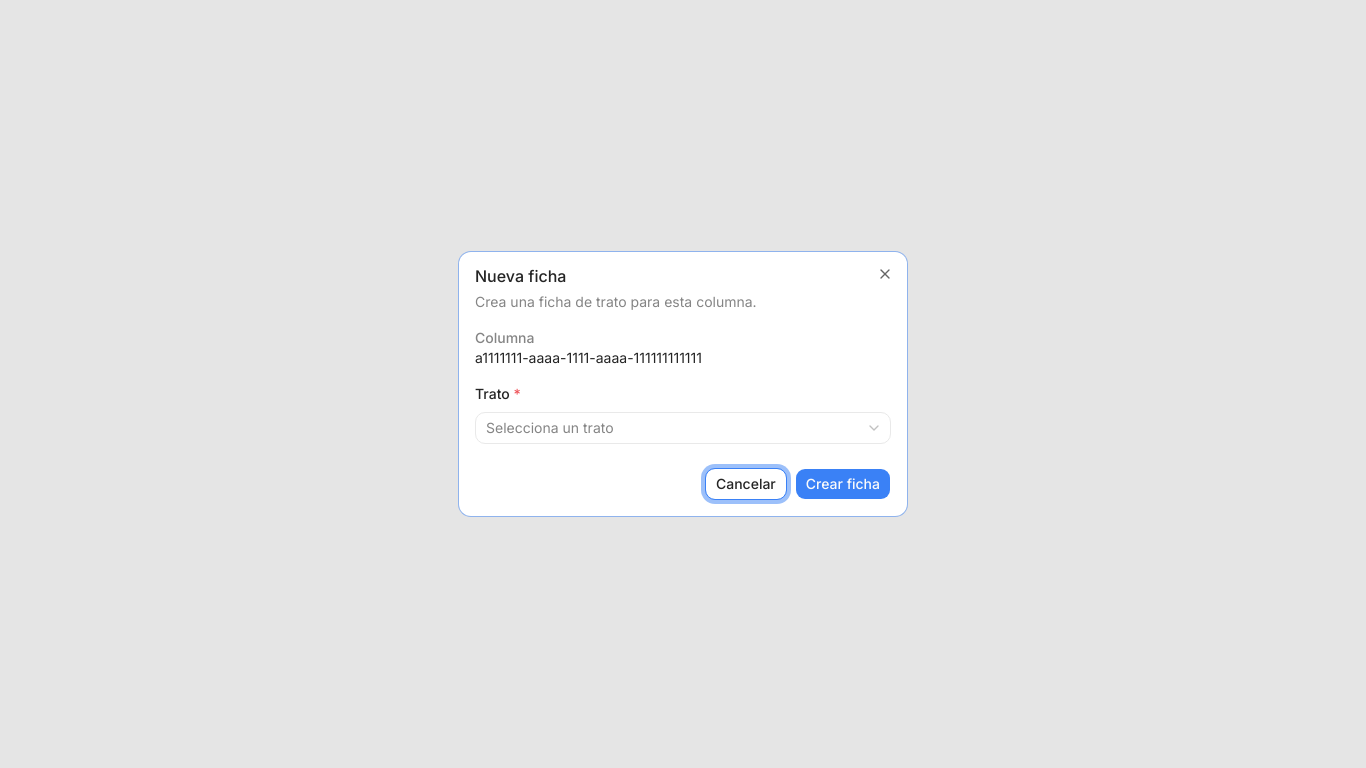
Test case: FichaCreateDialog — error 422 mantiene dialog abierto › (d) muestra serverError cuando back responde 422 con tratoId (remapeado a entidadId) y mantiene dialog abierto
Click the dropdown labelled "Selecciona un trato" at (550, 428), box [475,412,891,444]
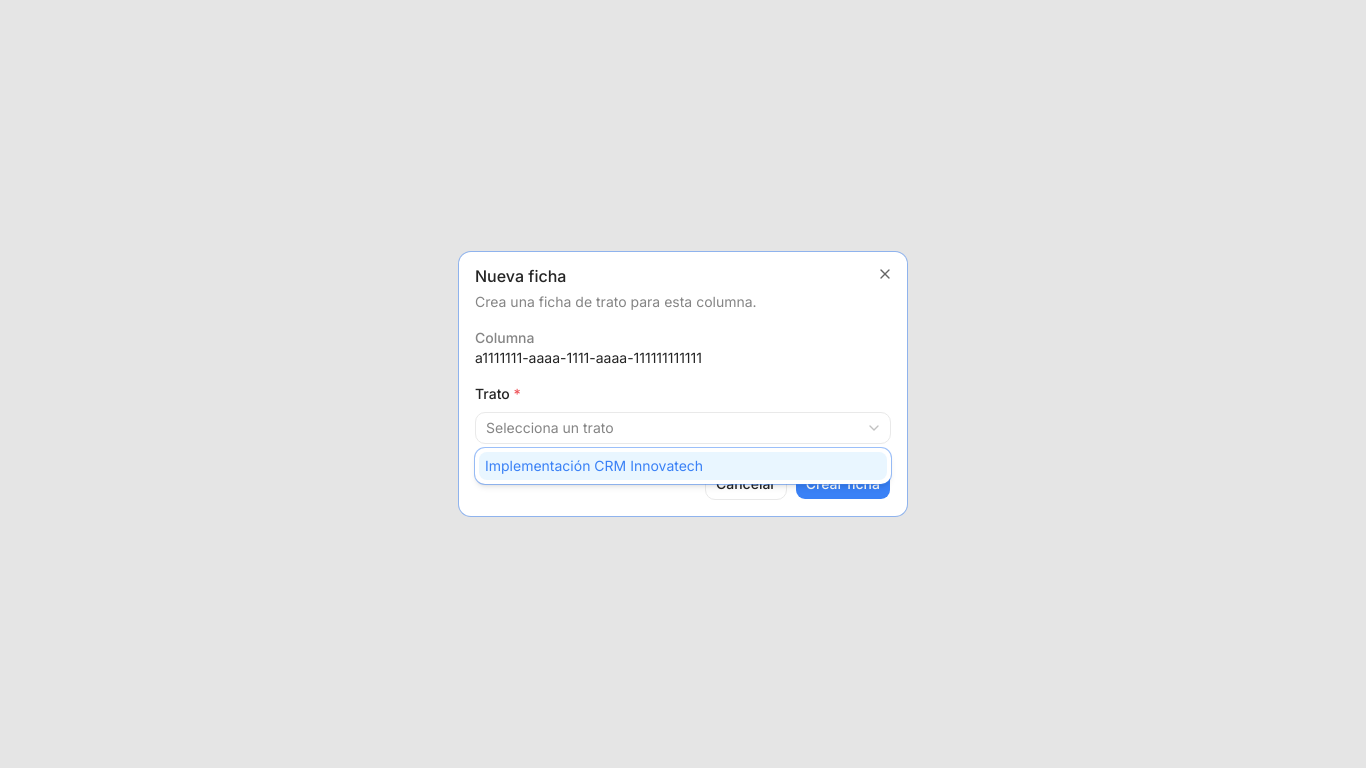
Click the option "Implementación CRM Innovatech" at (683, 466), box [479,452,887,480]
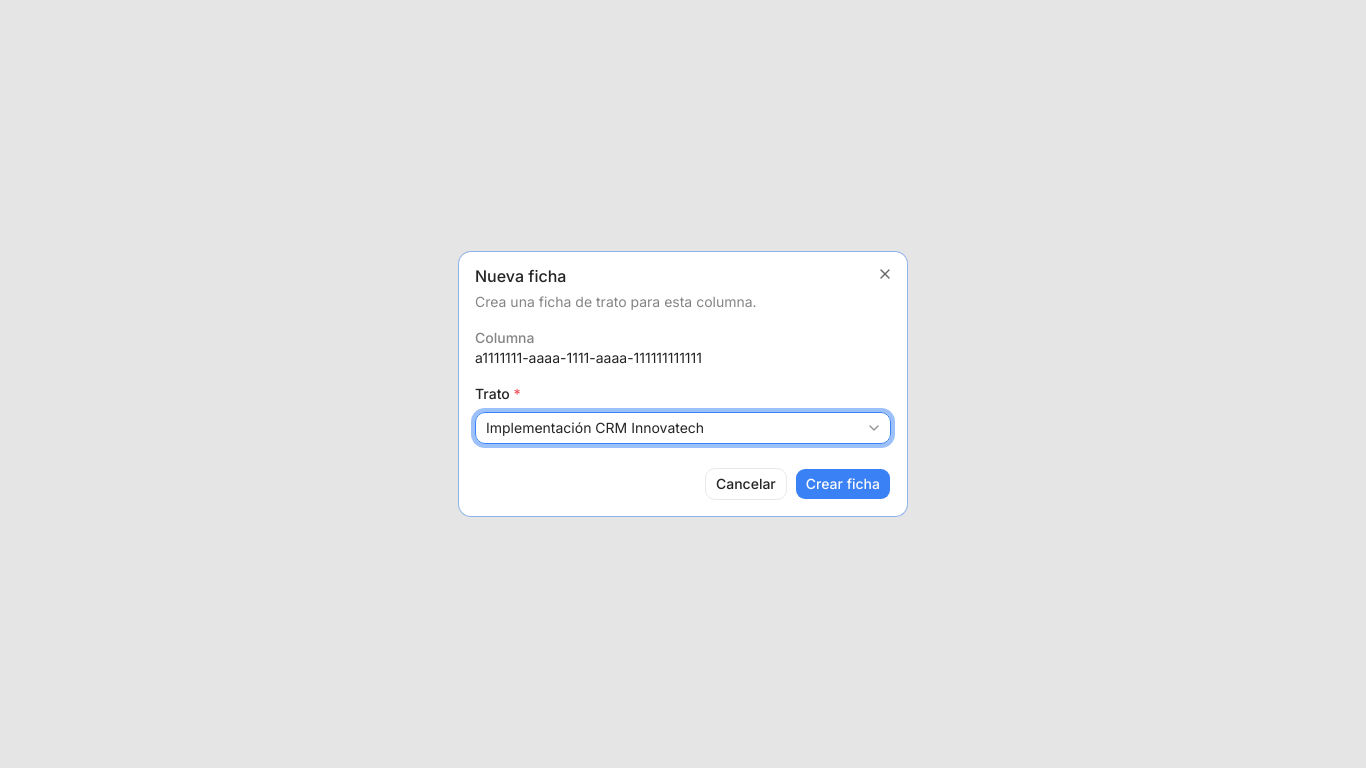
Click the button "Crear ficha" at (843, 484), box [795,468,891,500]
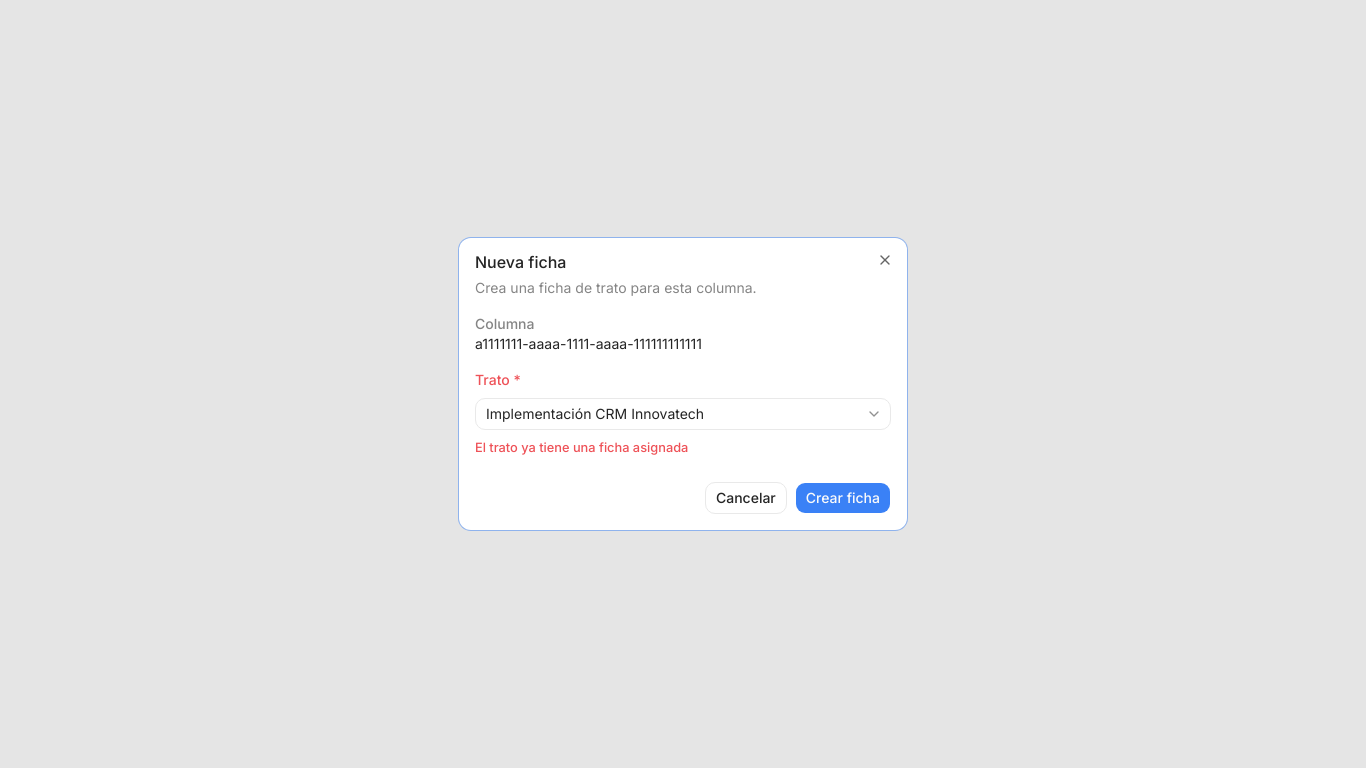
Now the text "El trato ya tiene una ficha asignada" is shown, box [475,440,688,455]
